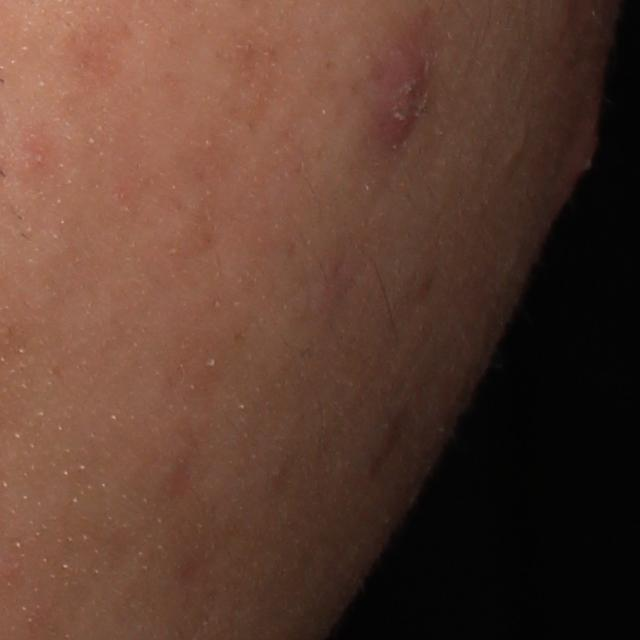papule: (360, 33, 425, 159)
